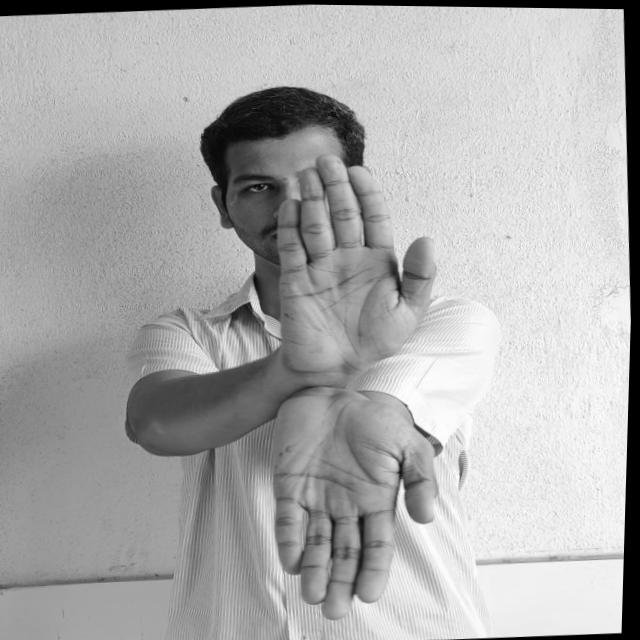Morning: (257, 147, 461, 627)
